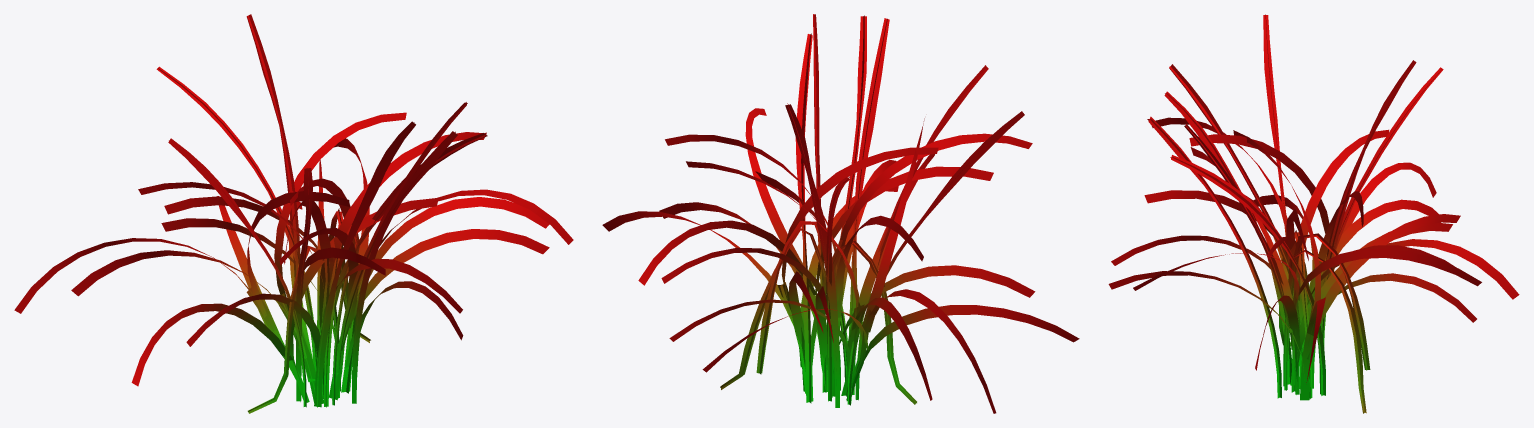
The model's file is SM_Marram_Grass_04.FBX.
The picture shows the model from 3 angles, left to right: view 1: azimuth 30°, elevation 25°; view 2: azimuth 150°, elevation 25°; view 3: azimuth 270°, elevation 25°; orthographic projection. The views are drawn at different scales.
Visible parts, largest first — view 1: SM_Marram_Grass_04; view 2: SM_Marram_Grass_04; view 3: SM_Marram_Grass_04.
Part boxes in pixels (x1,y1,x2,y2): SM_Marram_Grass_04: [14, 14, 573, 413]; SM_Marram_Grass_04: [602, 14, 1079, 413]; SM_Marram_Grass_04: [1108, 14, 1519, 413].
Bounding box in the file's own units: 93.03 × 75.5 × 65.63.
